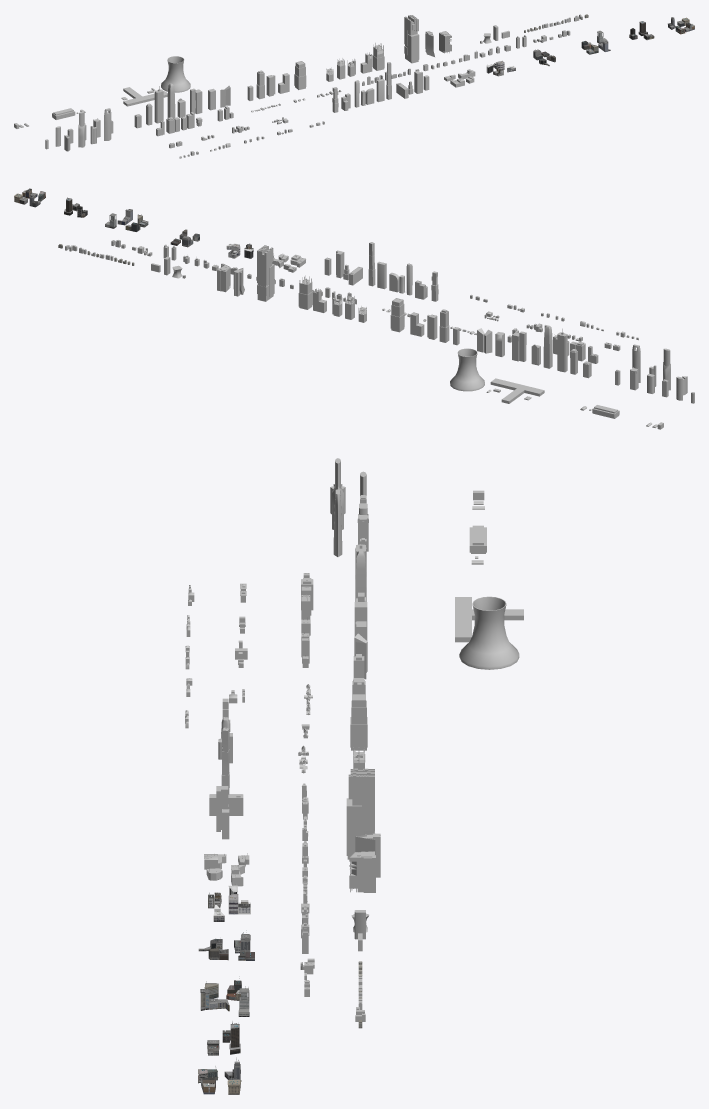
The model's file is all_buildings.FBX.
The picture shows the model from 3 angles, top to bottom: view 1: azimuth 30°, elevation 25°; view 2: azimuth 150°, elevation 25°; view 3: azimuth 270°, elevation 25°; orthographic projection. The views are drawn at different scales.
Visible parts, largest first — view 1: sky1_30, warehouse3_e, warehouse3_b, sky1_11, sky1_20, sky1_15, sky1_29, sky1_16, sky1_06, sky1_32, sky1_04; view 2: warehouse3_e, sky1_30, warehouse3_b, sky1_20, sky1_15, sky1_29, sky1_11, sky1_16; view 3: warehouse3_e, sky1_30, sky1_32, warehouse3_b, sky1_20.
Boxes of the visible parts, <box> form: sky1_30: <box>404,15,419,63</box>; warehouse3_e: <box>161,56,190,92</box>; warehouse3_b: <box>123,87,167,106</box>; sky1_11: <box>154,86,163,123</box>; sky1_20: <box>294,61,306,89</box>; sky1_15: <box>190,88,202,113</box>; sky1_29: <box>372,43,384,70</box>; sky1_16: <box>167,83,175,118</box>; sky1_06: <box>78,111,85,147</box>; sky1_32: <box>439,31,451,53</box>; sky1_04: <box>104,108,111,140</box>; warehouse3_e: <box>450,348,484,391</box>; sky1_30: <box>257,245,274,301</box>; warehouse3_b: <box>490,378,544,403</box>; sky1_20: <box>390,298,404,332</box>; sky1_15: <box>512,331,526,361</box>; sky1_29: <box>298,275,312,309</box>; sky1_11: <box>557,328,567,372</box>; sky1_16: <box>543,325,552,368</box>; warehouse3_e: <box>459,596,519,669</box>; sky1_30: <box>346,768,374,859</box>; sky1_32: <box>349,851,375,892</box>; warehouse3_b: <box>455,597,523,642</box>; sky1_20: <box>350,694,367,750</box>.
Size of the model in its own units: 4051 by 268 by 971.
